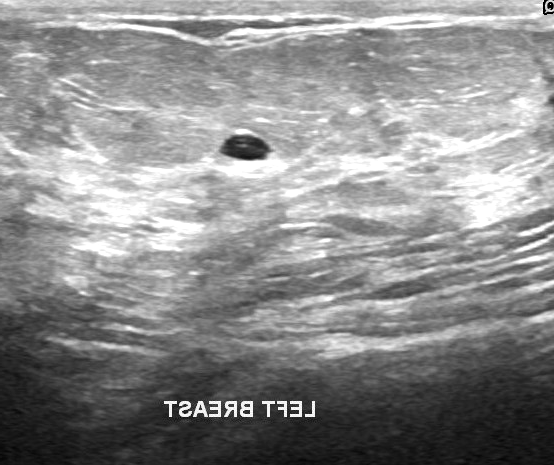Benign: (220, 129, 271, 164)
